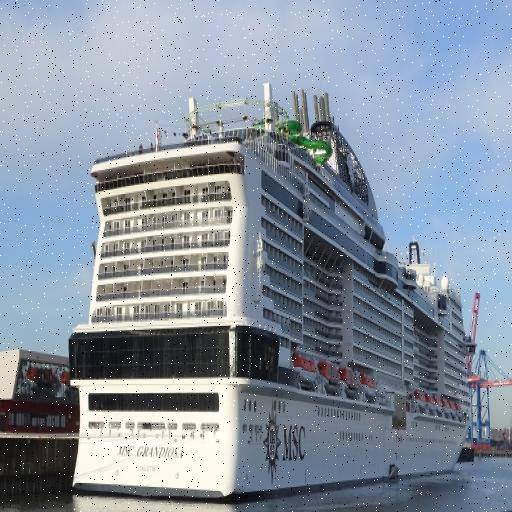cruises: (74, 83, 481, 498)
